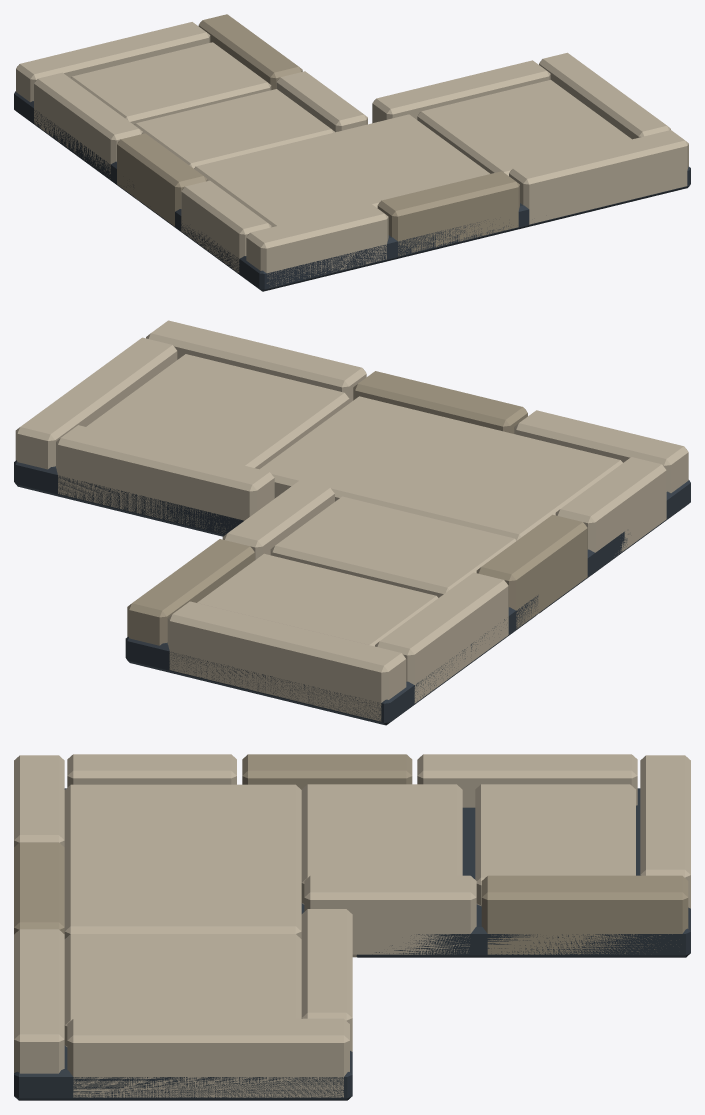
Rendered from Court_WalkwayCorner.fbx.
3 renders of one model, top to bottom at view 1: azimuth 30°, elevation 25°; view 2: azimuth 150°, elevation 25°; view 3: azimuth 270°, elevation 25°, orthographic. The views are drawn at different scales.
Parts seen in each view (by area): view 1: Concrete, ConcreteDark, FrameDark; view 2: Concrete, ConcreteDark, FrameDark; view 3: Concrete, ConcreteDark, FrameDark.
Boxes of the visible parts, x1,y1,x2,y2 form: Concrete: (16,22,688,285); ConcreteDark: (117,14,519,255); FrameDark: (14,91,690,291); Concrete: (15,320,688,721); ConcreteDark: (127,371,587,645); FrameDark: (14,460,690,725); Concrete: (14,754,690,1097); ConcreteDark: (14,754,688,954); FrameDark: (14,788,690,1100).
Bounding box in the file's own units: 8 × 0.85 × 8.
